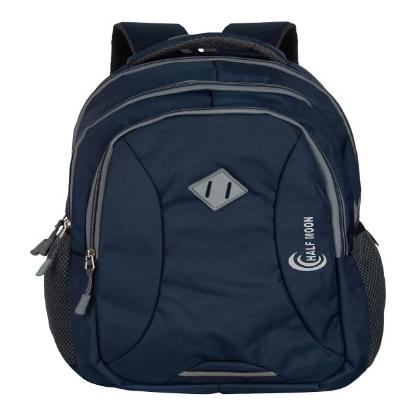bag: (32, 13, 390, 399)
